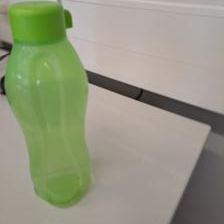bottle: (0, 3, 93, 208)
